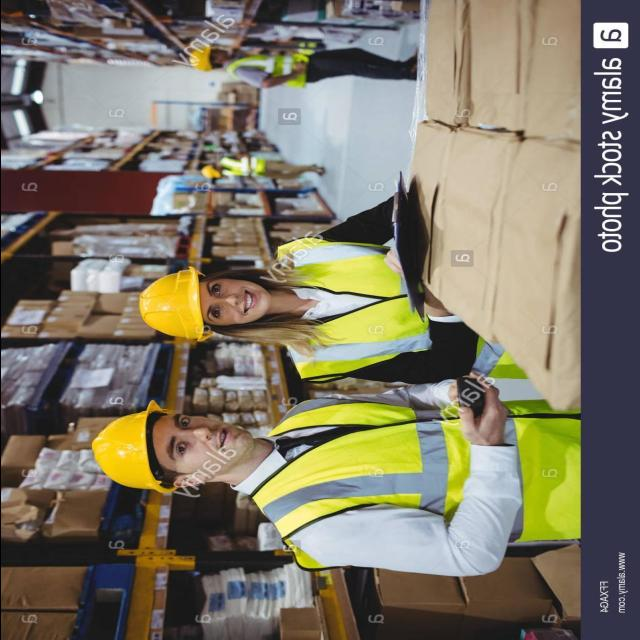helmet: (90, 394, 182, 504), (136, 262, 210, 348), (182, 30, 216, 76), (200, 162, 216, 180)
jacket: (249, 386, 581, 588), (262, 234, 504, 384), (227, 36, 321, 96), (222, 150, 272, 180)
